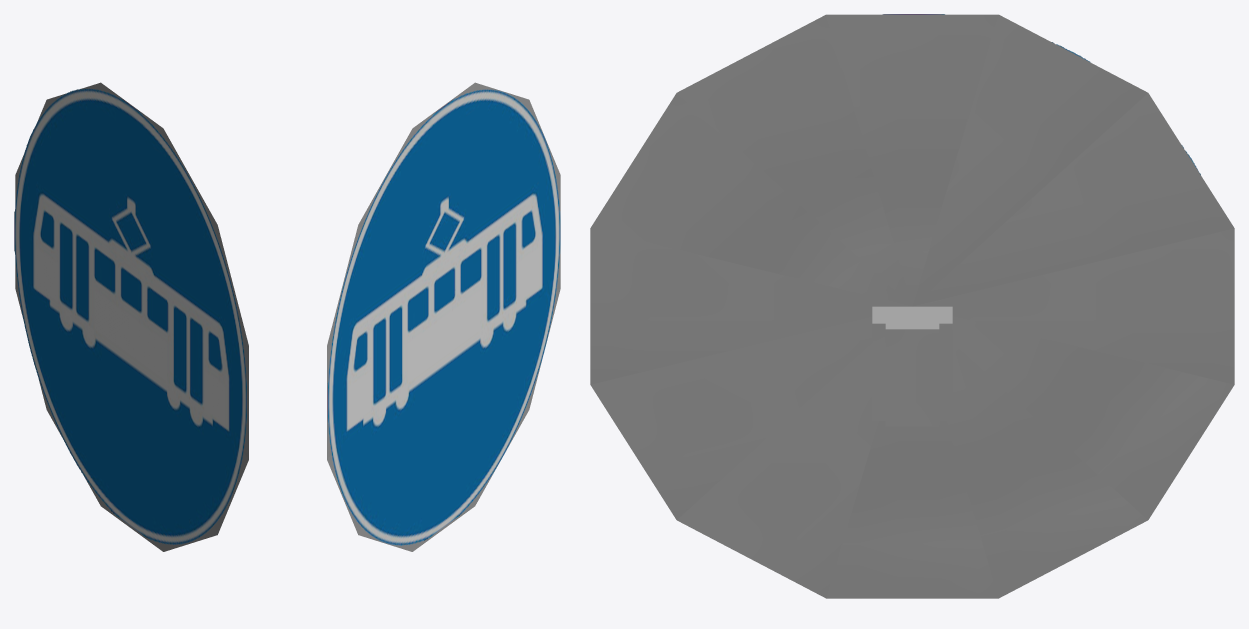
The model's file is tram.obj.
The picture shows the model from 3 angles, left to right: view 1: azimuth 30°, elevation 25°; view 2: azimuth 150°, elevation 25°; view 3: azimuth 270°, elevation 25°; orthographic projection. The views are drawn at different scales.
Visible parts, largest first — view 1: cube, circle; view 2: cube, circle; view 3: circle, cube.
Part boxes in pixels (<box>): cube: <box>14,88,246,544</box>; circle: <box>15,82,248,551</box>; cube: <box>327,89,560,545</box>; circle: <box>327,82,560,551</box>; circle: <box>590,14,1234,598</box>; cube: <box>872,14,1200,426</box>.
Bounding box in the file's own units: 0.0641 × 0.75 × 0.75.
Materials: 2 (2 with a texture image).
